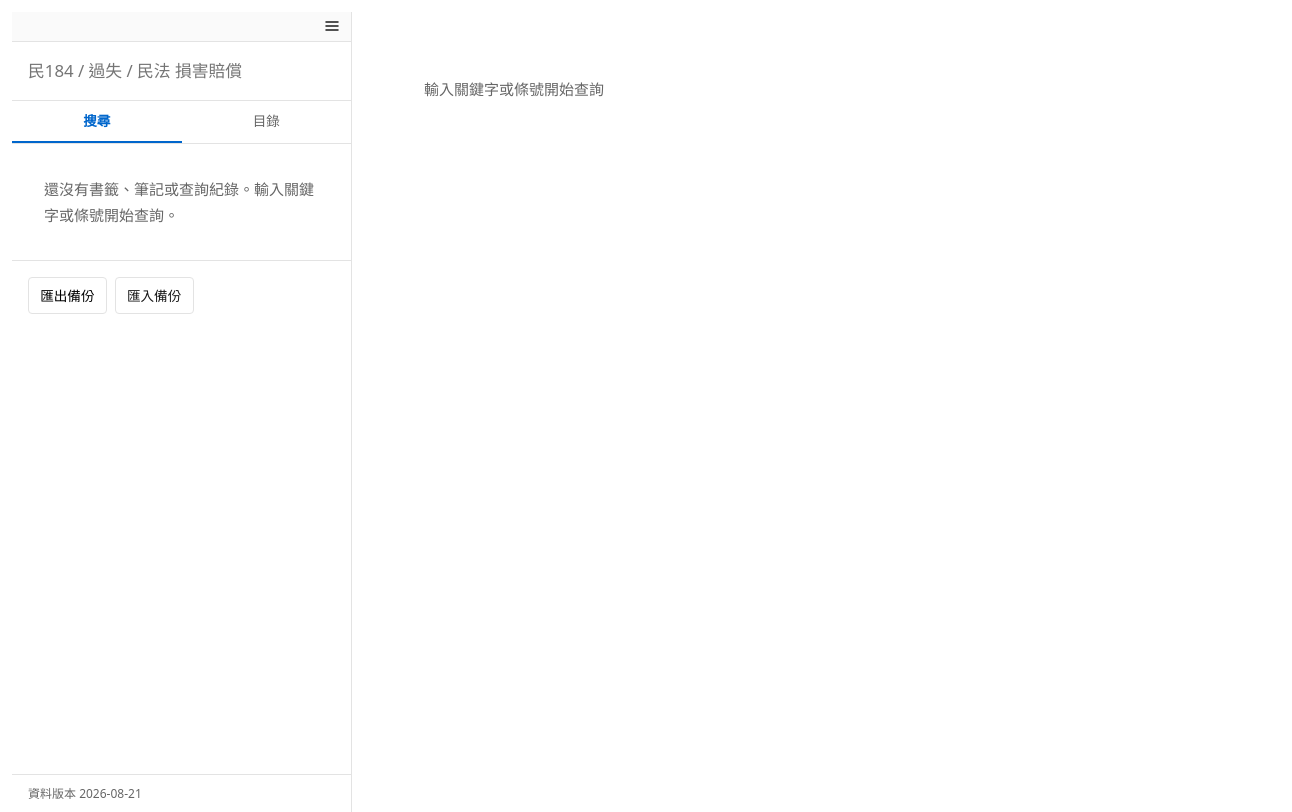
Scenario: §5.5 情境二:冷啟動輸入純數字條號 › 先開啟一部法規後再查純數字,沿用開始打字時正在讀的法規(§5.5 情境一)
Note: 先用法規名開啟刑法
In the field named "搜尋法條": (182, 71) [12,42,351,101], type "刑法"
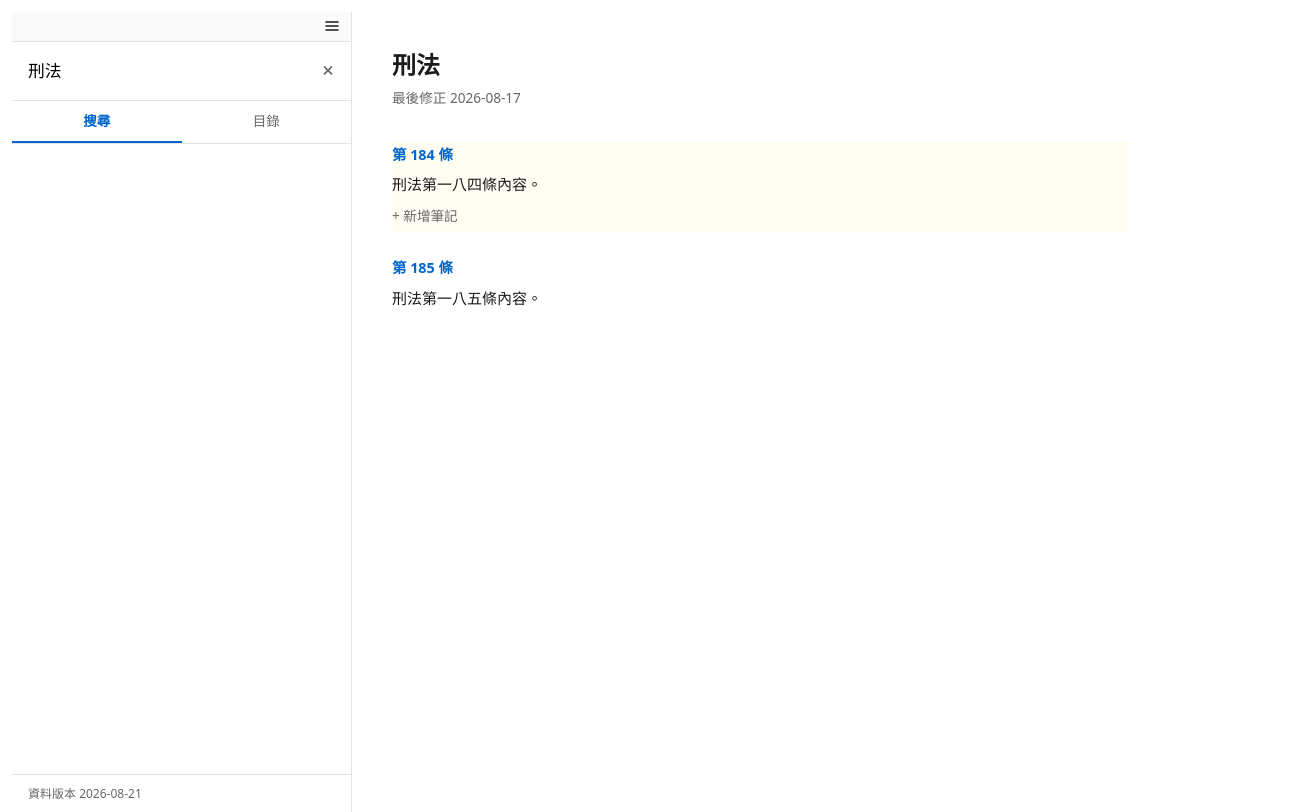
Replace the text in the field named "搜尋法條" with "185": (182, 71) [12,42,351,101]
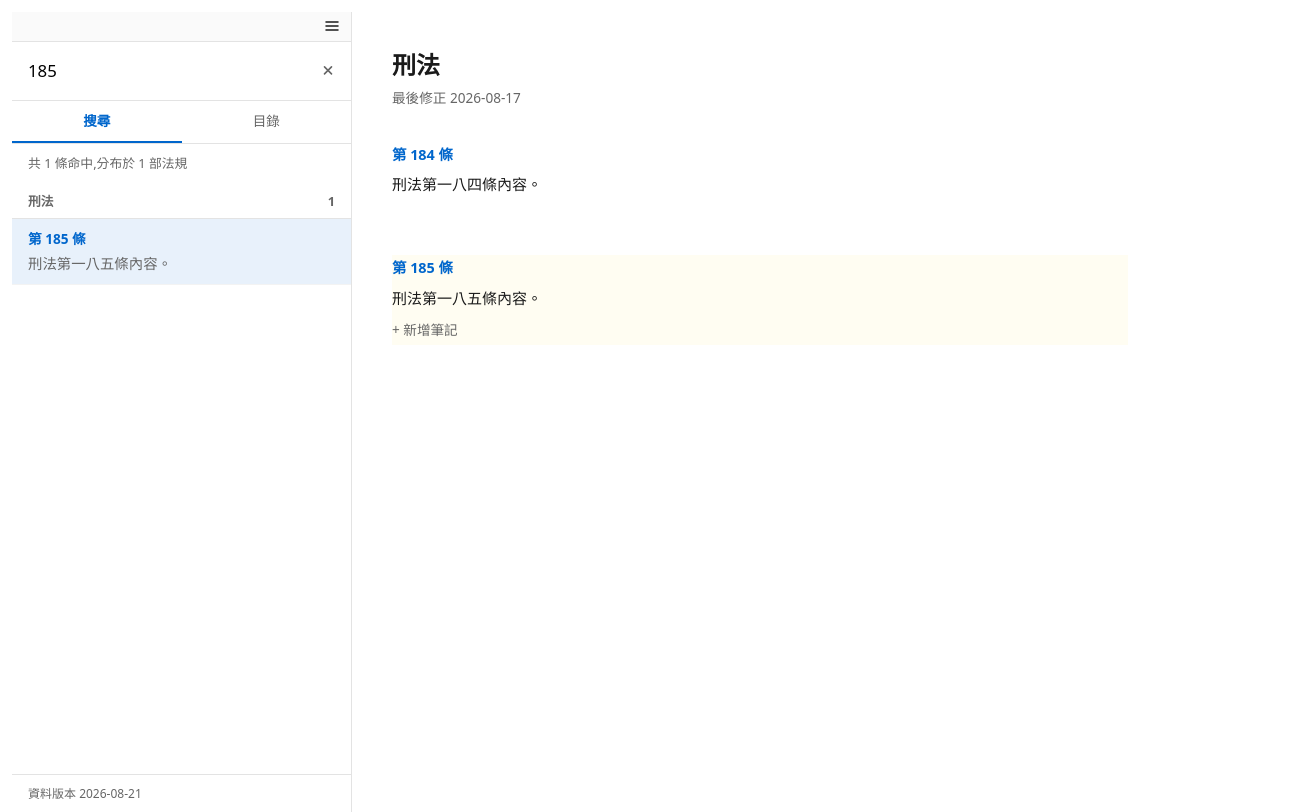
Result: the number of options is 1 at [12,219,351,285]
